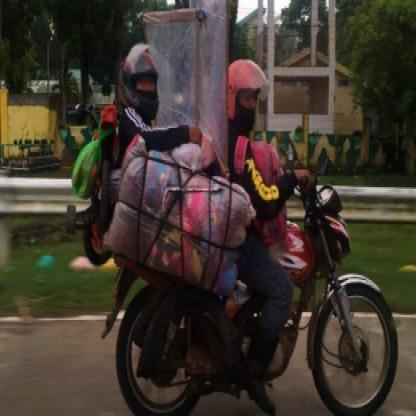helmet: (222, 60, 271, 130), (118, 44, 160, 121)
